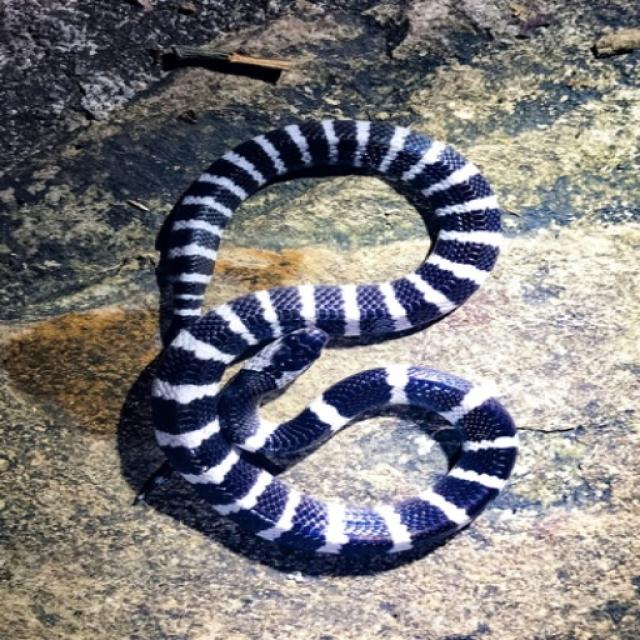snake: (87, 60, 585, 640)
